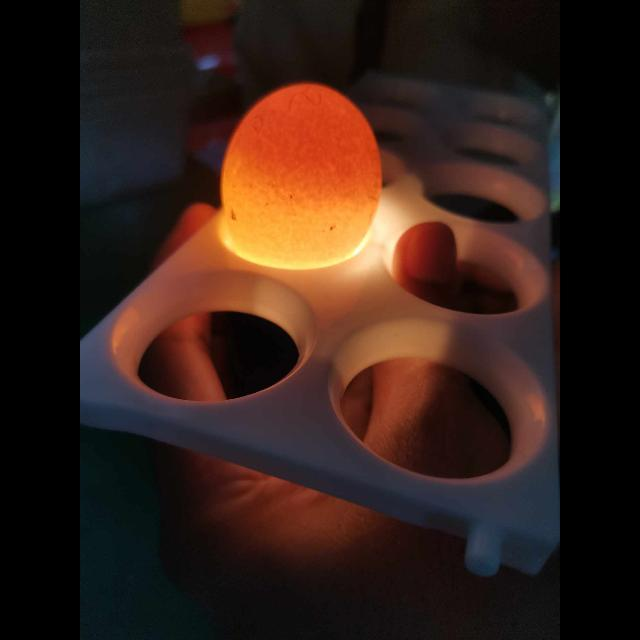Infertile: (223, 81, 379, 256)
